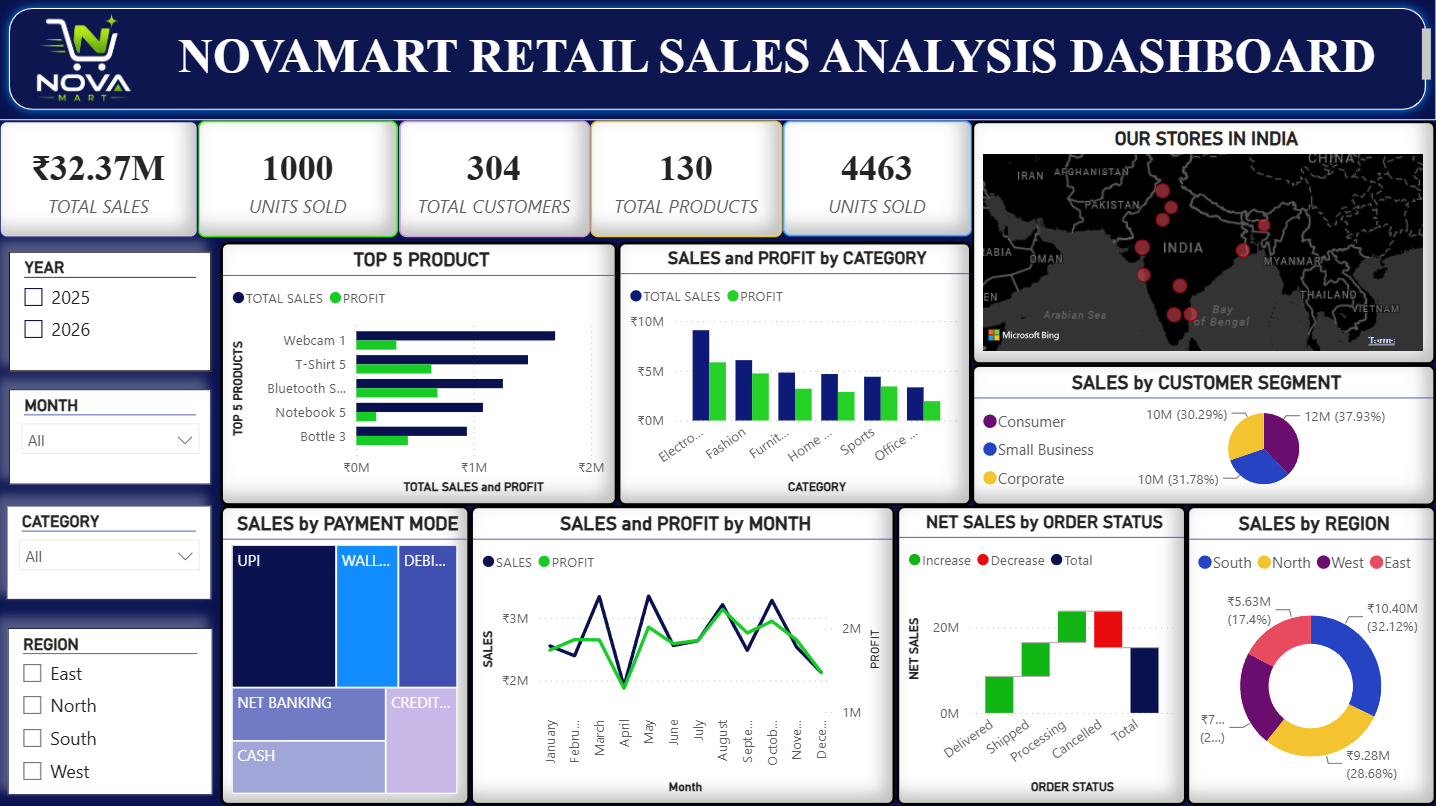

The dashboard page shown, as its layout file describes it:
{"tool":"powerbi","page":{"name":"Page 1","canvas":[1280,720],"ordinal":0},"visuals":[{"type":"card","fields":{"Values":["Count(product.ProductID)"]},"box":[526.2,108.8,171.2,103.8],"z":0},{"type":"card","fields":{"Values":["Sum(Merge1.QUANTITY)"]},"box":[697.7,109.3,168.6,103.5],"z":1000},{"type":"card","fields":{"Values":["Count(order.CustomerID)"]},"box":[356.2,108.8,170,103.8],"z":2000},{"type":"card","fields":{"Values":["Count(order.OrderID)"]},"box":[177.5,108.8,178.8,103.8],"z":3000},{"type":"clusteredColumnChart","title":"SALES and PROFIT by CATEGORY","fields":{"Category":["final merge.CATEGORY"],"Y":["Sum(final merge.TOTAL SALES)","Sum(final merge.PROFIT)"]},"box":[551.2,217.5,315,235],"z":4000},{"type":"card","fields":{"Values":["Sum(final merge.TOTAL SALES)"]},"box":[0,109.3,177.9,104.7],"z":5000},{"type":"treemap","title":"SALES by PAYMENT MODE","fields":{"Group":["final merge.PaymentMode"],"Values":["Sum(final merge.TOTAL SALES)"]},"box":[197.5,452.5,222.5,267.5],"z":6000},{"type":"donutChart","fields":{"Y":["Sum(final merge.TOTAL SALES)"],"Category":["final merge.store.Region"]},"box":[1057.5,452.5,222.5,267.5],"z":7000},{"type":"waterfallChart","fields":{"Category":["final merge.OrderStatus"],"Y":["final merge.Net Sales by Status"]},"box":[798.8,452.5,258.8,267.5],"z":8000},{"type":"pieChart","fields":{"Category":["Merge4.Segment"],"Y":["Sum(Merge4.TOTAL SALES)"]},"box":[866.2,326.2,413.8,126.2],"z":9000},{"type":"clusteredBarChart","title":"TOP 5 PRODUCT","fields":{"Category":["final merge.PRODUCT NAME"],"Y":["Sum(final merge.TOTAL SALES)","Sum(final merge.PROFIT)"]},"box":[197.5,217.5,353.8,235],"z":10000},{"type":"map","title":"OUR STORES IN INDIA","fields":{"Size":["Sum(final merge.TOTAL SALES)"],"Category":["final merge.store.StoreName"]},"box":[866.2,108.8,413.8,217.5],"z":11000},{"type":"textbox","box":[0,0,113.8,92.5],"z":12000},{"type":"shape","box":[0,0,1280,108.8],"z":13000},{"type":"textbox","box":[113.8,22.5,1166.2,57.5],"z":14000},{"type":"image","box":[6.2,0,135,108.8],"z":15000},{"type":"lineChart","title":"SALES and PROFIT by MONTH","fields":{"Category":["final merge.OrderDate.Variation.Date Hierarchy.Month"],"Y":["Sum(final merge.TOTAL SALES)"],"Y2":["Sum(final merge.PROFIT)"]},"box":[420,452.5,378.8,267.5],"z":16000},{"type":"slicer","fields":{"Values":["final merge.OrderDate.Variation.Date Hierarchy.Year"]},"box":[8.8,226.2,180,106.2],"z":17000},{"type":"slicer","fields":{"Values":["final merge.OrderDate.Variation.Date Hierarchy.Month"]},"box":[8.8,348.8,180,85],"z":18000},{"type":"slicer","fields":{"Values":["final merge.CATEGORY"]},"box":[6.2,452.5,182.5,83.8],"z":19000},{"type":"slicer","fields":{"Values":["final merge.store.Region"]},"box":[7.5,561.2,182.5,148.8],"z":20000}]}

Visuals, with their boxes in screenshot pixels (x1, y1, x2, y2), scaled from the page's 1280x720 canvas onto the 1436x806 screenshot:
card - Count(product.ProductID): left=590, top=122, right=782, bottom=238
card - Sum(Merge1.QUANTITY): left=783, top=122, right=972, bottom=238
card - Count(order.CustomerID): left=400, top=122, right=590, bottom=238
card - Count(order.OrderID): left=199, top=122, right=400, bottom=238
"SALES and PROFIT by CATEGORY" clusteredColumnChart: left=618, top=243, right=972, bottom=507
card - Sum(final merge.TOTAL SALES): left=0, top=122, right=200, bottom=240
"SALES by PAYMENT MODE" treemap: left=222, top=507, right=471, bottom=805
donutChart - Sum(final merge.TOTAL SALES) x final merge.store.Region: left=1186, top=507, right=1435, bottom=805
waterfallChart - final merge.OrderStatus x final merge.Net Sales by Status: left=896, top=507, right=1186, bottom=805
pieChart - Merge4.Segment x Sum(Merge4.TOTAL SALES): left=972, top=365, right=1435, bottom=506
"TOP 5 PRODUCT" clusteredBarChart: left=222, top=243, right=618, bottom=507
"OUR STORES IN INDIA" map: left=972, top=122, right=1435, bottom=365
textbox: left=0, top=0, right=128, bottom=104
shape: left=0, top=0, right=1435, bottom=122
textbox: left=128, top=25, right=1435, bottom=90
image: left=7, top=0, right=158, bottom=122
"SALES and PROFIT by MONTH" lineChart: left=471, top=507, right=896, bottom=805
slicer - final merge.OrderDate.Variation.Date Hierarchy.Year: left=10, top=253, right=212, bottom=372
slicer - final merge.OrderDate.Variation.Date Hierarchy.Month: left=10, top=390, right=212, bottom=486
slicer - final merge.CATEGORY: left=7, top=507, right=212, bottom=600
slicer - final merge.store.Region: left=8, top=628, right=213, bottom=795
